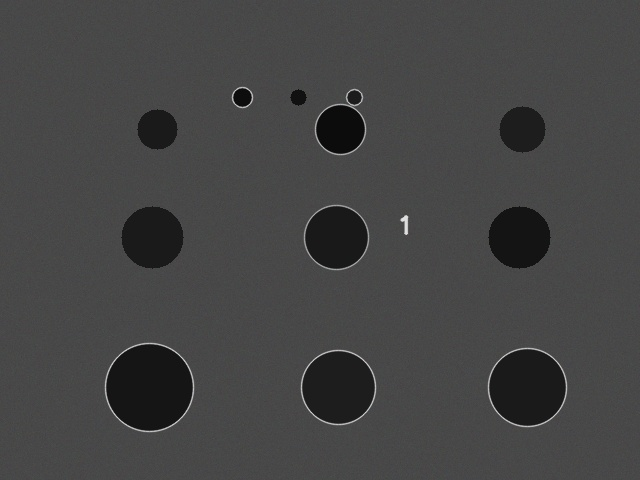hole: (105, 343, 193, 431), (488, 348, 566, 426), (301, 350, 375, 424), (304, 205, 368, 269), (121, 206, 183, 268), (488, 206, 550, 268), (315, 104, 365, 154), (499, 106, 545, 152), (137, 109, 177, 149), (232, 87, 252, 107), (290, 89, 306, 105), (346, 89, 362, 105)
